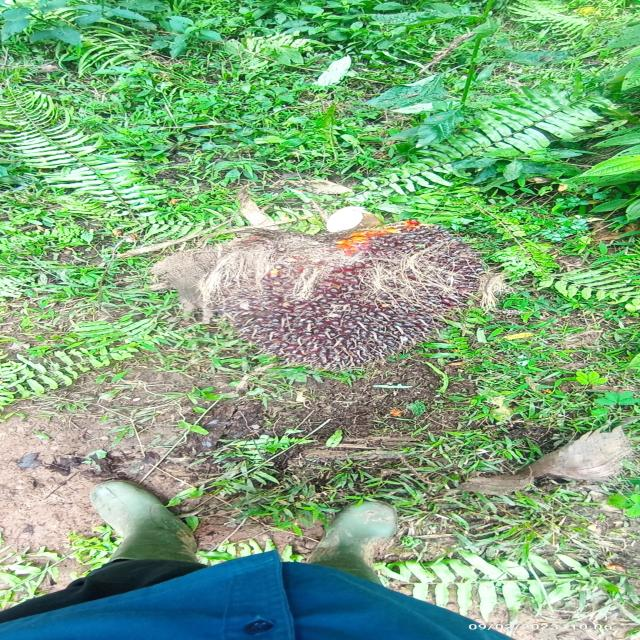fraksi 1: (171, 222, 494, 372)
